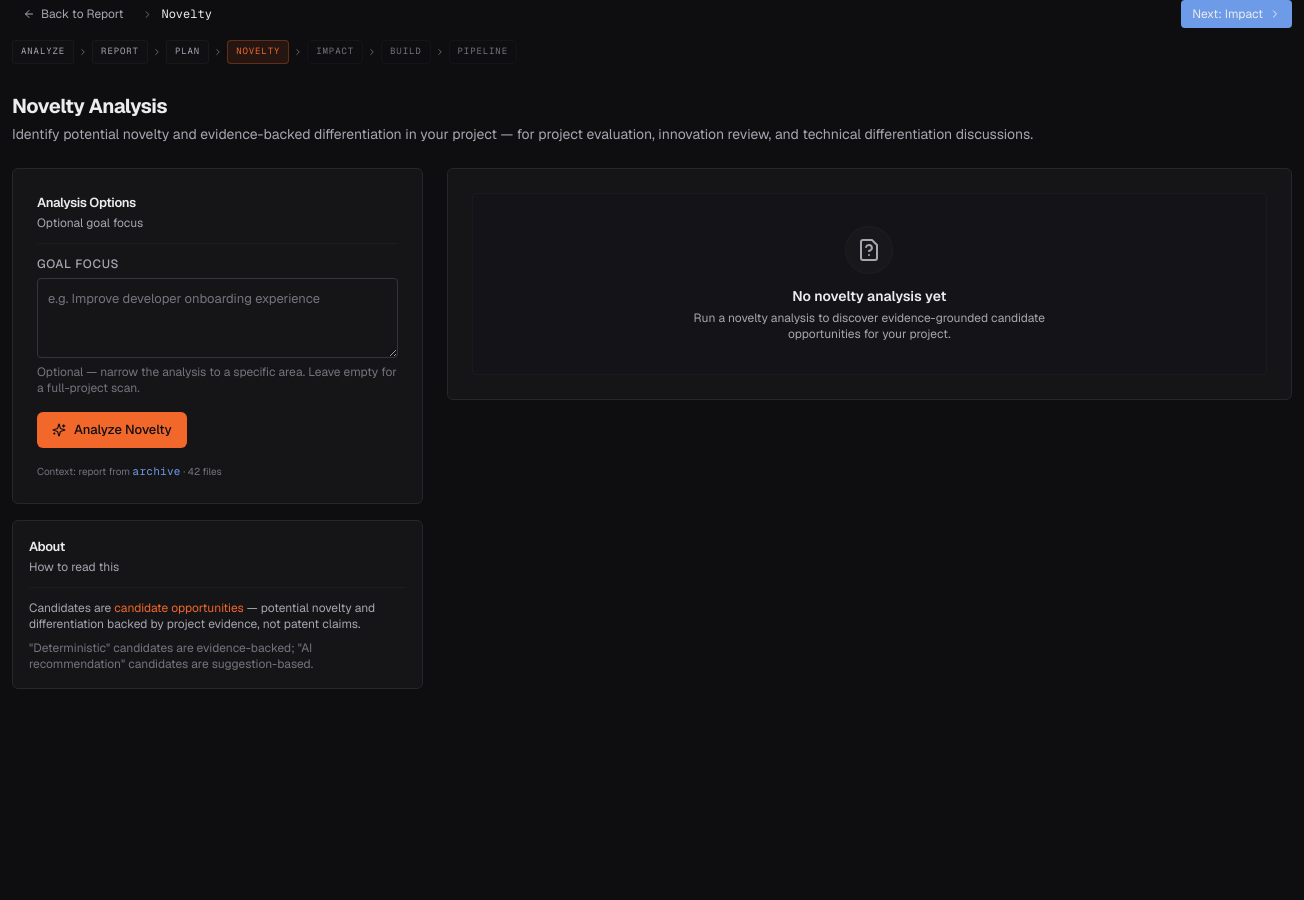
Scenario: Novelty workflow › renders evidence, confidence, and limitations
Click the button "Analyze Novelty" at (112, 430), box [37,412,187,448]
(page scrolled)
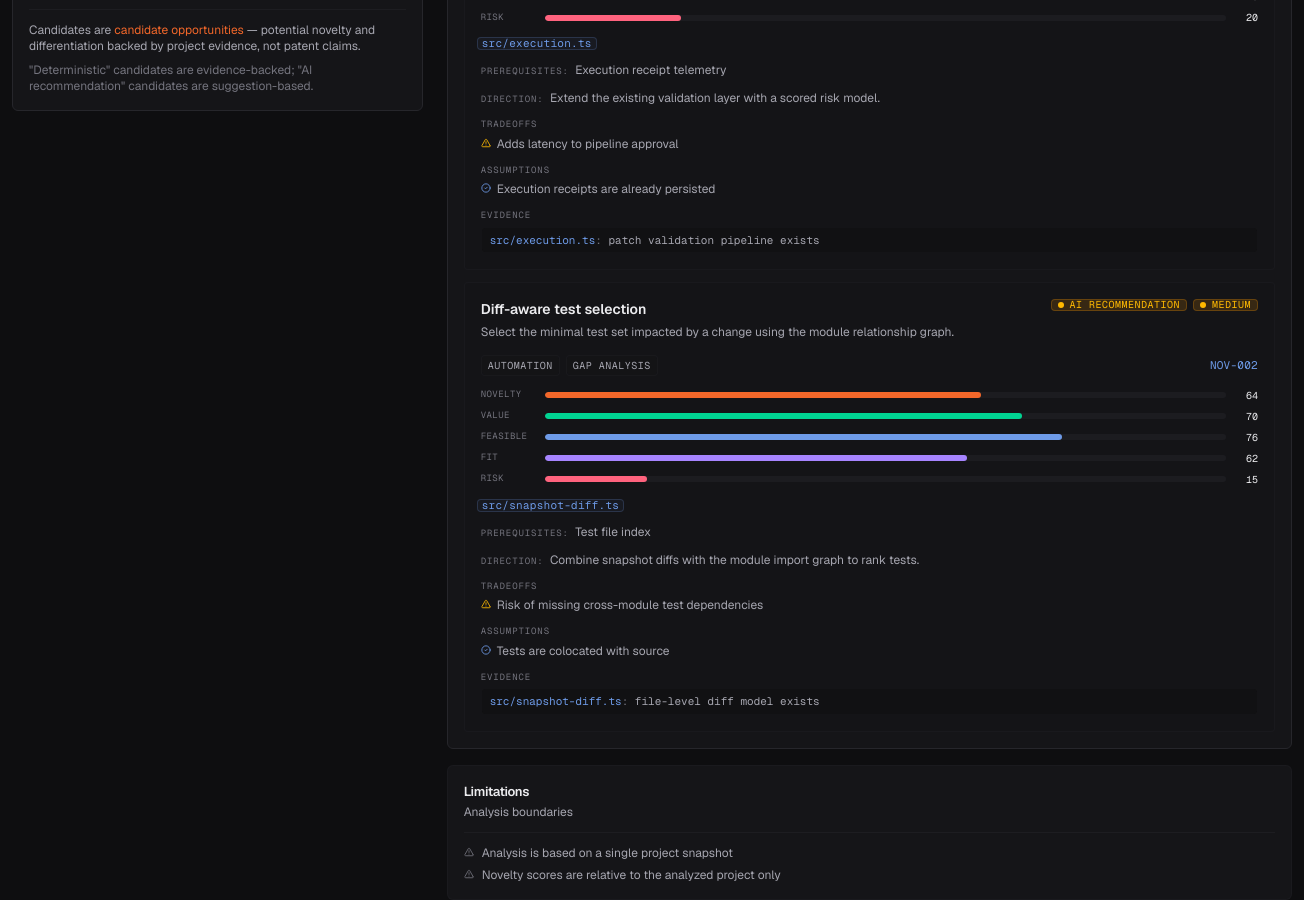
Expected: the 1st text "src/execution.ts" is shown, [477,37,597,50]
Expected: the text "patch validation pipeline exists" is shown, [608,232,820,246]
Expected: the text "MEDIUM" is shown, [1193,299,1258,311]
